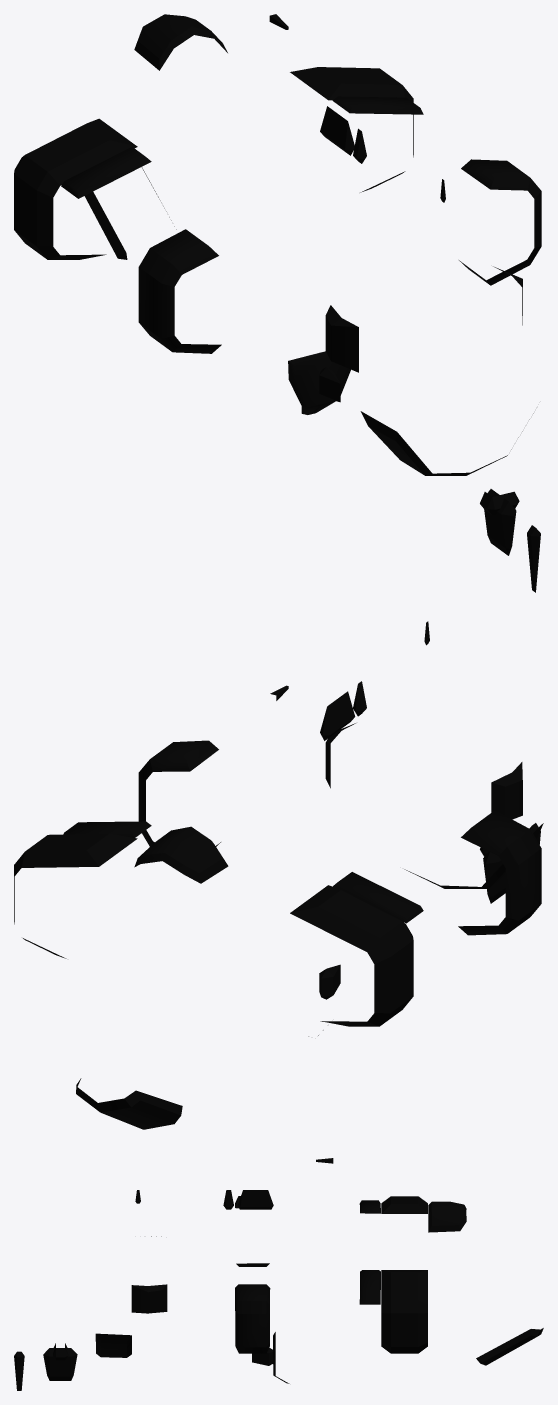
The model's file is tan_cf_serv_01_t1.glb.
3 views of the same model, one above another, from view 1: azimuth 30°, elevation 25°; view 2: azimuth 150°, elevation 25°; view 3: azimuth 270°, elevation 25° (orthographic). The views are drawn at different scales.
Parts seen in each view (by area): view 1: tan_civ_01_LOD0; view 2: tan_civ_01_LOD0; view 3: tan_civ_01_LOD0.
Boxes of the visible parts, bbox=[...] form: tan_civ_01_LOD0: bbox=[14, 14, 541, 592]; tan_civ_01_LOD0: bbox=[14, 621, 543, 1129]; tan_civ_01_LOD0: bbox=[14, 1158, 543, 1390].
Size of what is drawn, in the model's own units: 0.5387 by 0.5223 by 1.08.
1 material, 1 textured.
